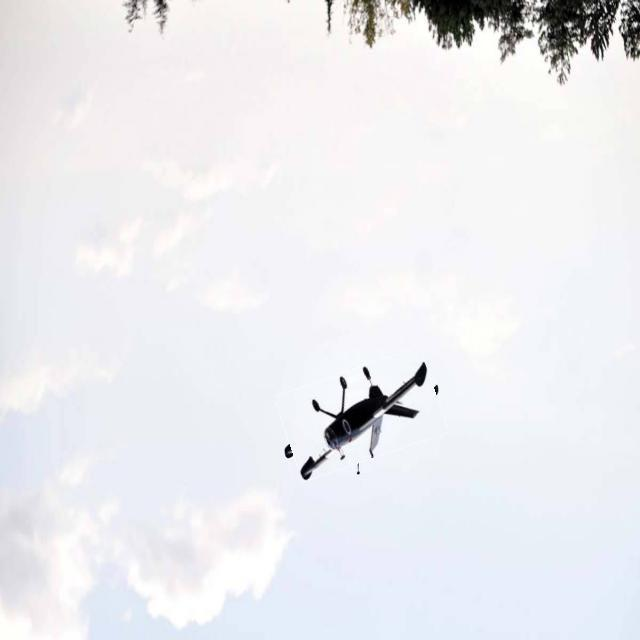UAV: (266, 333, 452, 532)
